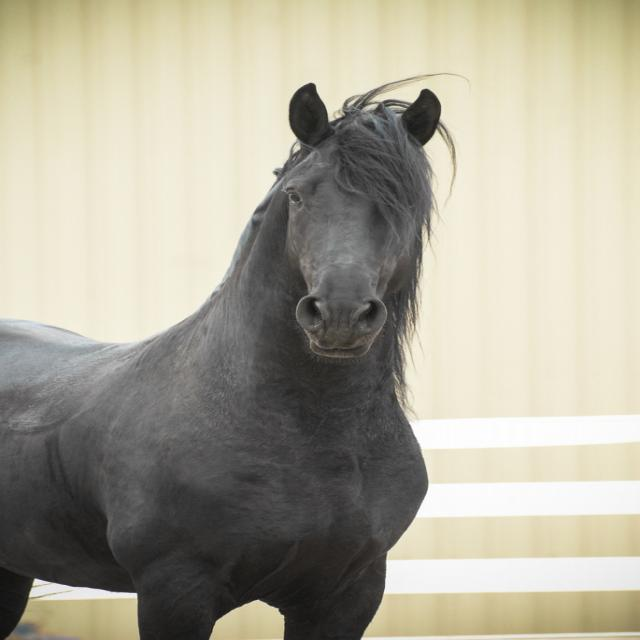Horse: (0, 70, 476, 639)
